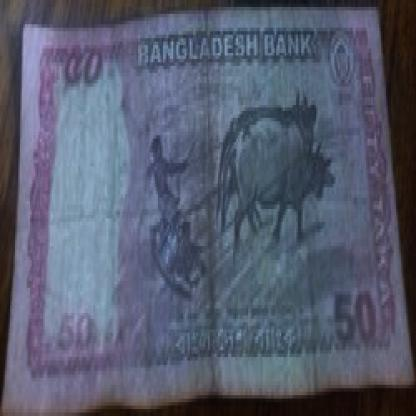Fifty taka: (56, 38, 122, 121), (323, 281, 386, 350)
